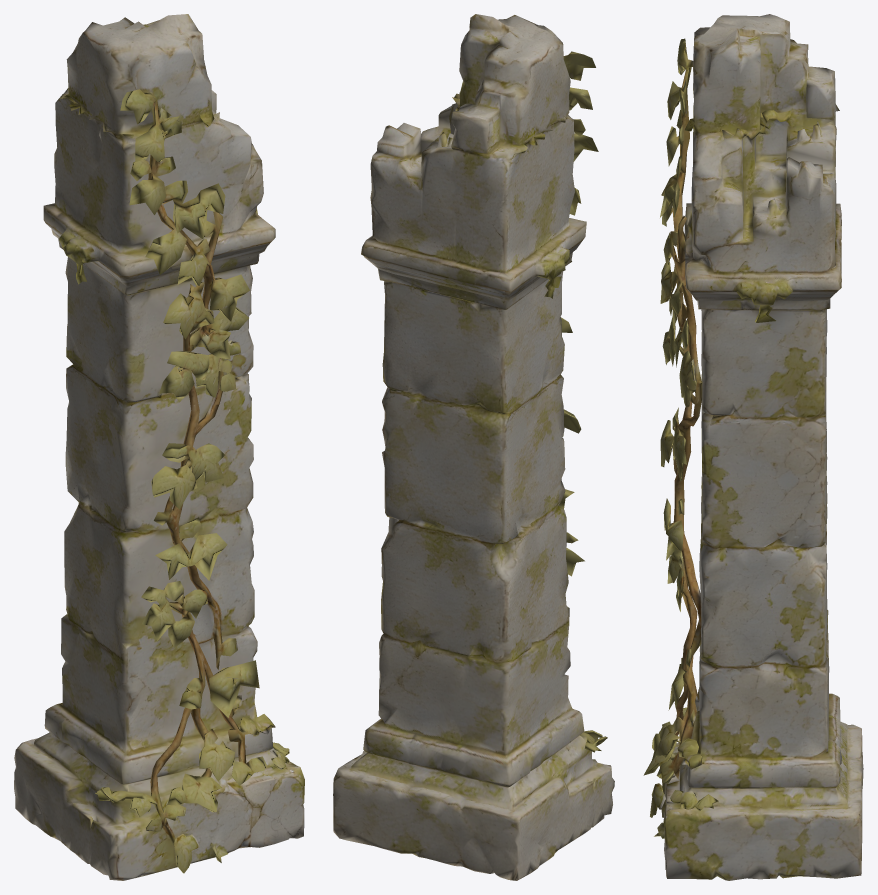
The model's file is raw.glb.
3 renders of one model, left to right at view 1: azimuth 30°, elevation 25°; view 2: azimuth 150°, elevation 25°; view 3: azimuth 270°, elevation 25°, orthographic. The views are drawn at different scales.
Visible parts, largest first — view 1: tripo_node_4bf40b8d-78b9-4a25-800f-b9206729622a; view 2: tripo_node_4bf40b8d-78b9-4a25-800f-b9206729622a; view 3: tripo_node_4bf40b8d-78b9-4a25-800f-b9206729622a.
Boxes of the visible parts, left/top/right/bottom form: tripo_node_4bf40b8d-78b9-4a25-800f-b9206729622a: left=14, top=14, right=304, bottom=880; tripo_node_4bf40b8d-78b9-4a25-800f-b9206729622a: left=333, top=14, right=614, bottom=880; tripo_node_4bf40b8d-78b9-4a25-800f-b9206729622a: left=643, top=14, right=863, bottom=880.
Bounding box in the file's own units: 0.2494 × 1 × 0.2488.
1 material, 1 textured.
